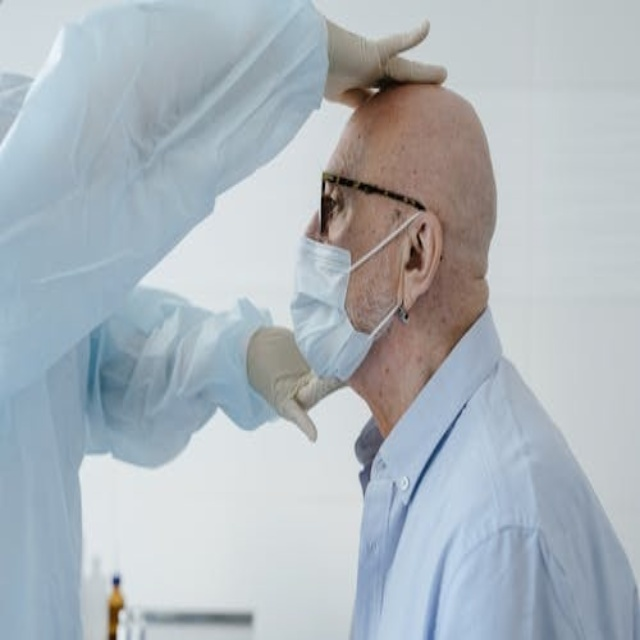Gafas: (320, 172, 427, 237)
Guantes: (246, 324, 346, 443), (321, 13, 447, 106)
Mascara: (290, 215, 406, 384)
